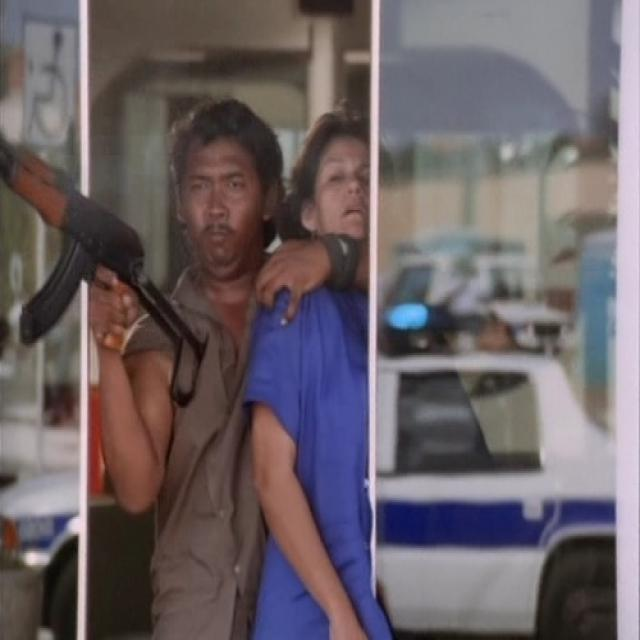rifle: (1, 122, 216, 406)
